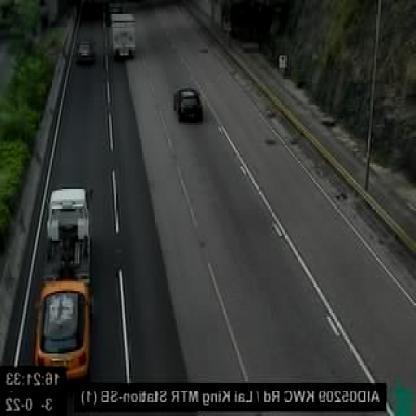Car: (32, 280, 93, 385), (172, 86, 202, 124), (73, 41, 94, 67)
Truck: (41, 184, 93, 280), (110, 10, 136, 60)
